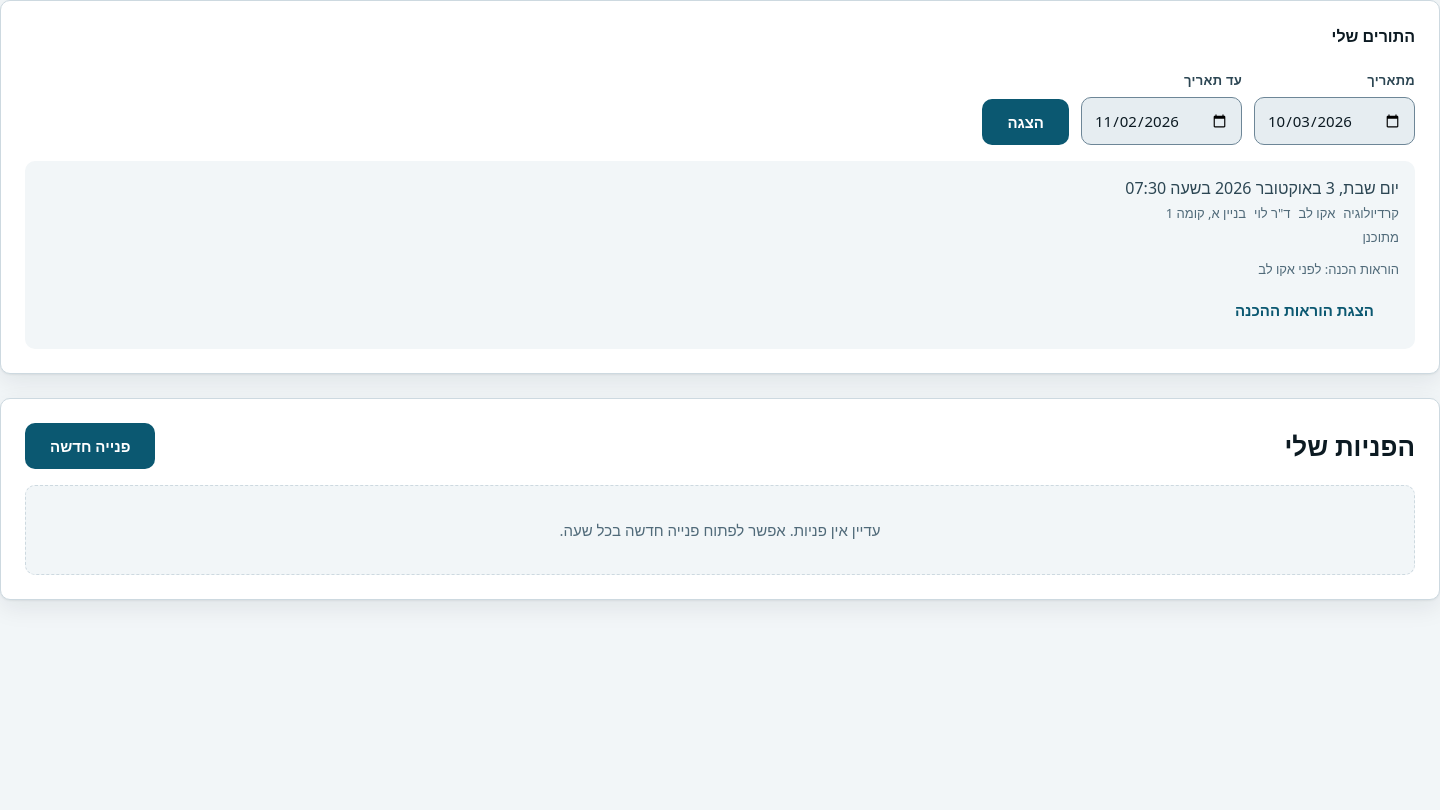
MyRequests › reads an appointment’s preparation text through the patient route (sub-project 18, D12)
The width and height of the screenshot is (1440, 810).
Step 1. Click the button "הצגת הוראות ההכנה" → (1304, 310), box [1210, 287, 1399, 333]
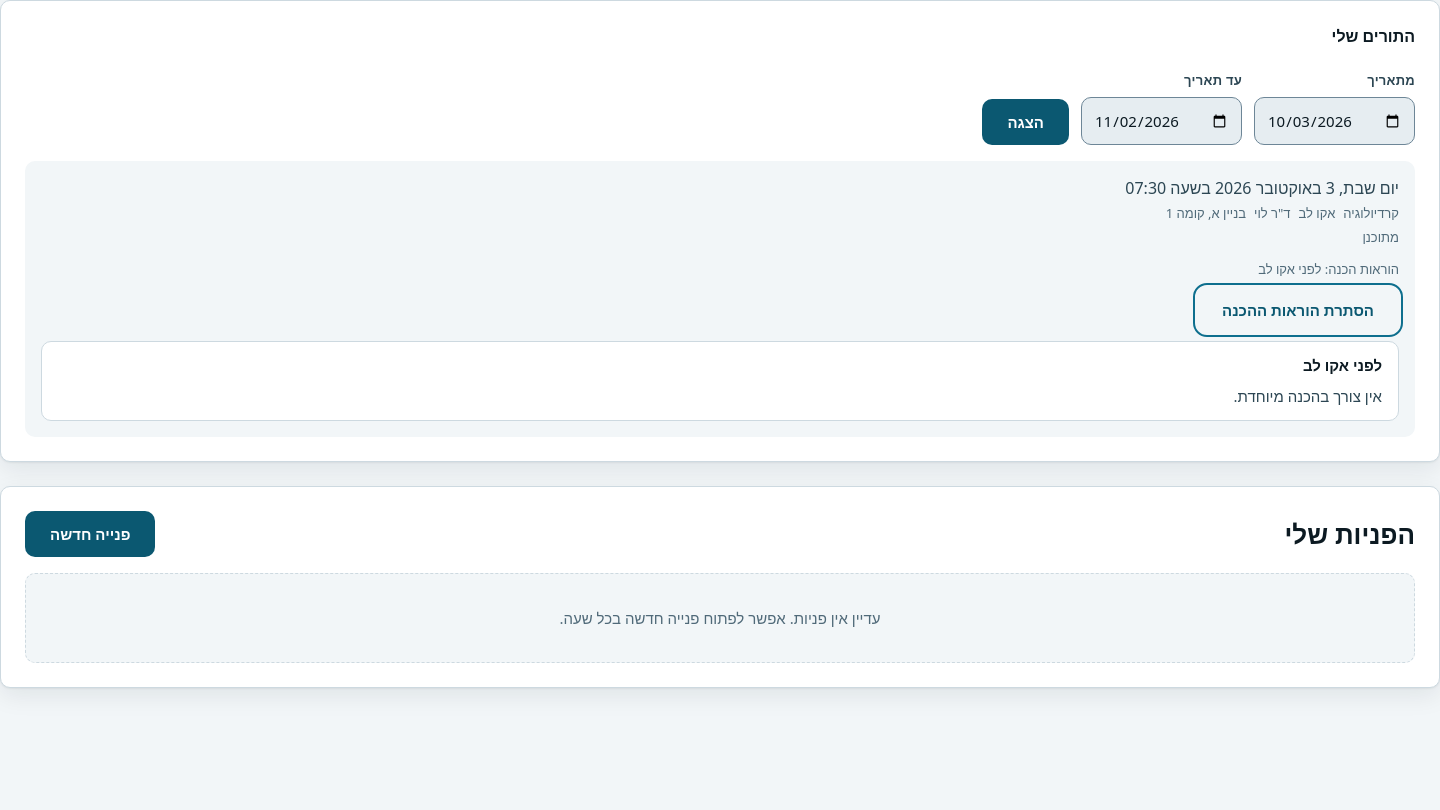
Result: the text "אין צורך בהכנה מיוחדת." is shown at [1234, 386, 1382, 406]
